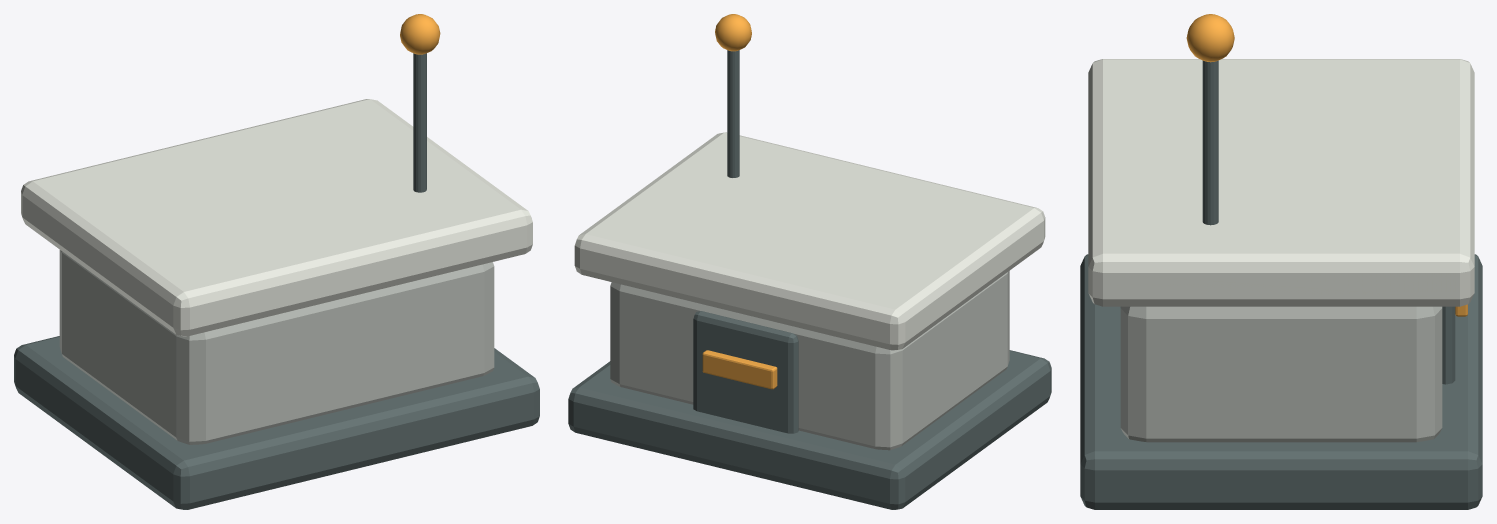
3 renders of one model, left to right at view 1: azimuth 30°, elevation 25°; view 2: azimuth 150°, elevation 25°; view 3: azimuth 270°, elevation 25°, orthographic. The views are drawn at different scales.
Parts seen in each view (by area): view 1: Roof, Bunker, Foundation, Antenna, Beacon; view 2: Roof, Bunker, Foundation, Blast door, Door stripe, Antenna, Beacon; view 3: Roof, Bunker, Foundation, Antenna, Beacon, Blast door.
Boxes of the visible parts, bbox=[...] form: Roof: bbox=[21, 99, 532, 336]; Bunker: bbox=[59, 250, 494, 444]; Foundation: bbox=[14, 336, 539, 509]; Antenna: bbox=[413, 53, 426, 192]; Beacon: bbox=[400, 14, 440, 54]; Roof: bbox=[574, 132, 1045, 350]; Bunker: bbox=[610, 271, 1009, 450]; Foundation: bbox=[568, 350, 1051, 509]; Blast door: bbox=[693, 311, 798, 433]; Door stripe: bbox=[702, 350, 777, 389]; Antenna: bbox=[727, 50, 739, 177]; Beacon: bbox=[715, 14, 751, 51]; Roof: bbox=[1088, 59, 1474, 306]; Bunker: bbox=[1120, 306, 1442, 442]; Foundation: bbox=[1080, 254, 1482, 509]; Antenna: bbox=[1202, 60, 1218, 225]; Beacon: bbox=[1186, 14, 1234, 62]; Blast door: bbox=[1442, 306, 1455, 384].
Size of the model in its own units: 1.55 by 1.58 by 1.25.
